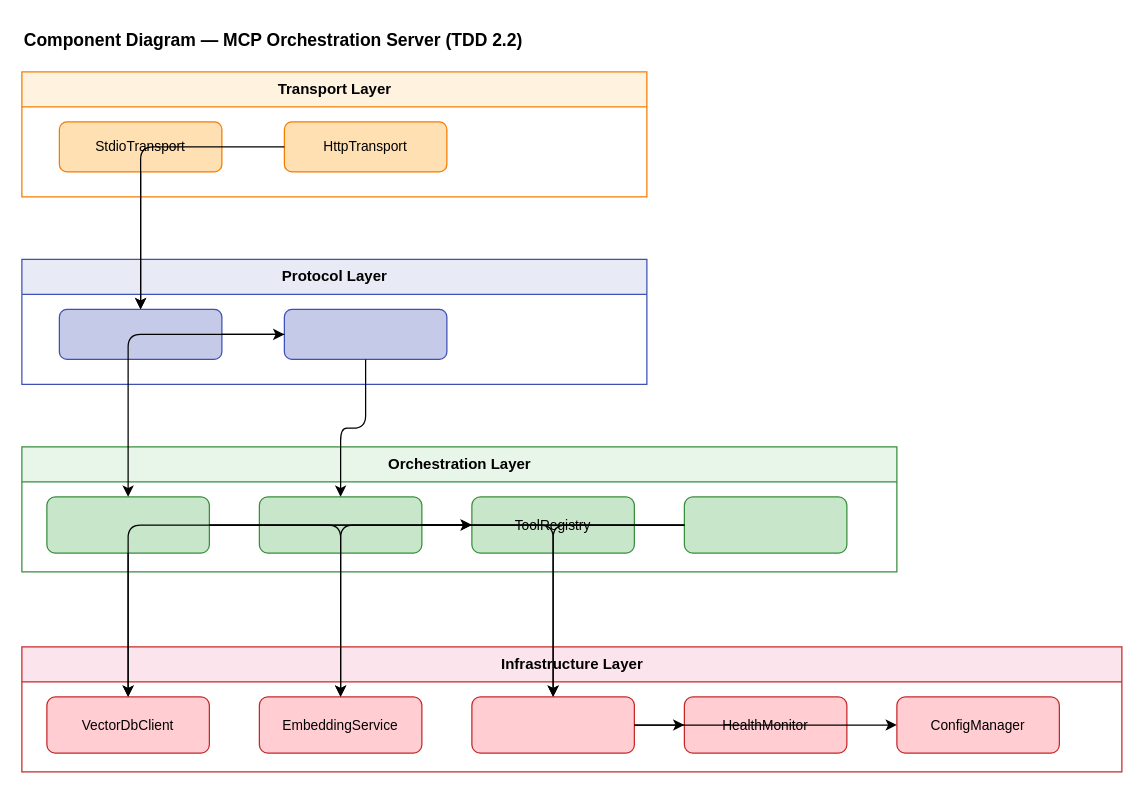
The diagram is 1144 pixels wide and 794 high, and some of its shapes have lost their labels. The shapes that lost their labels are listed below. From the top down, each one's centre as x and y in pixels, then its label:
the point at 140,333: JsonRpcHandler
the point at 365,333: McpToolRegistrar
the point at 127,524: ToolDiscovery Service
the point at 340,524: ToolExecution Dispatcher
the point at 765,524: ToolIndexer
the point at 552,724: UpstreamServer Manager
